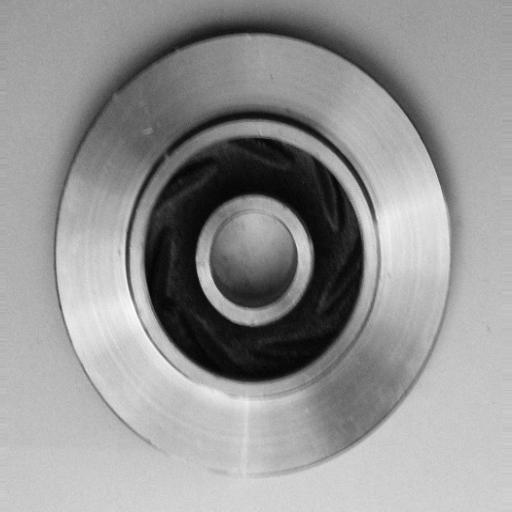scratch: (140, 438, 265, 488)
unpolished_casting: (53, 30, 457, 485)
